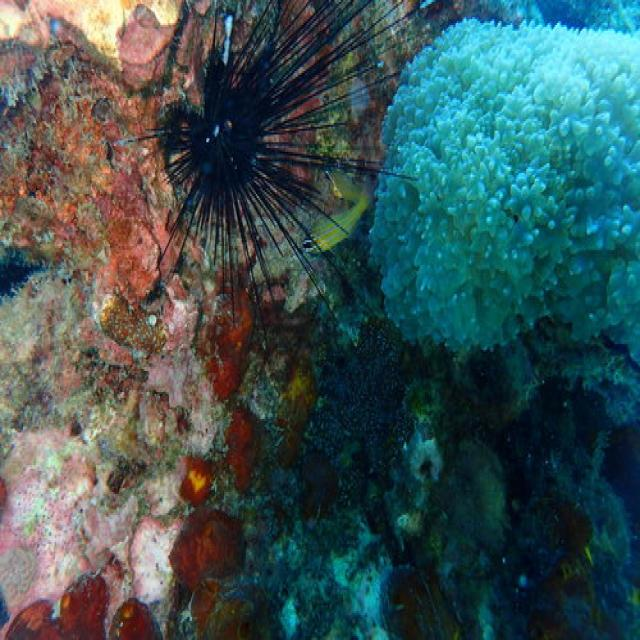Urchin: (115, 10, 422, 342)
